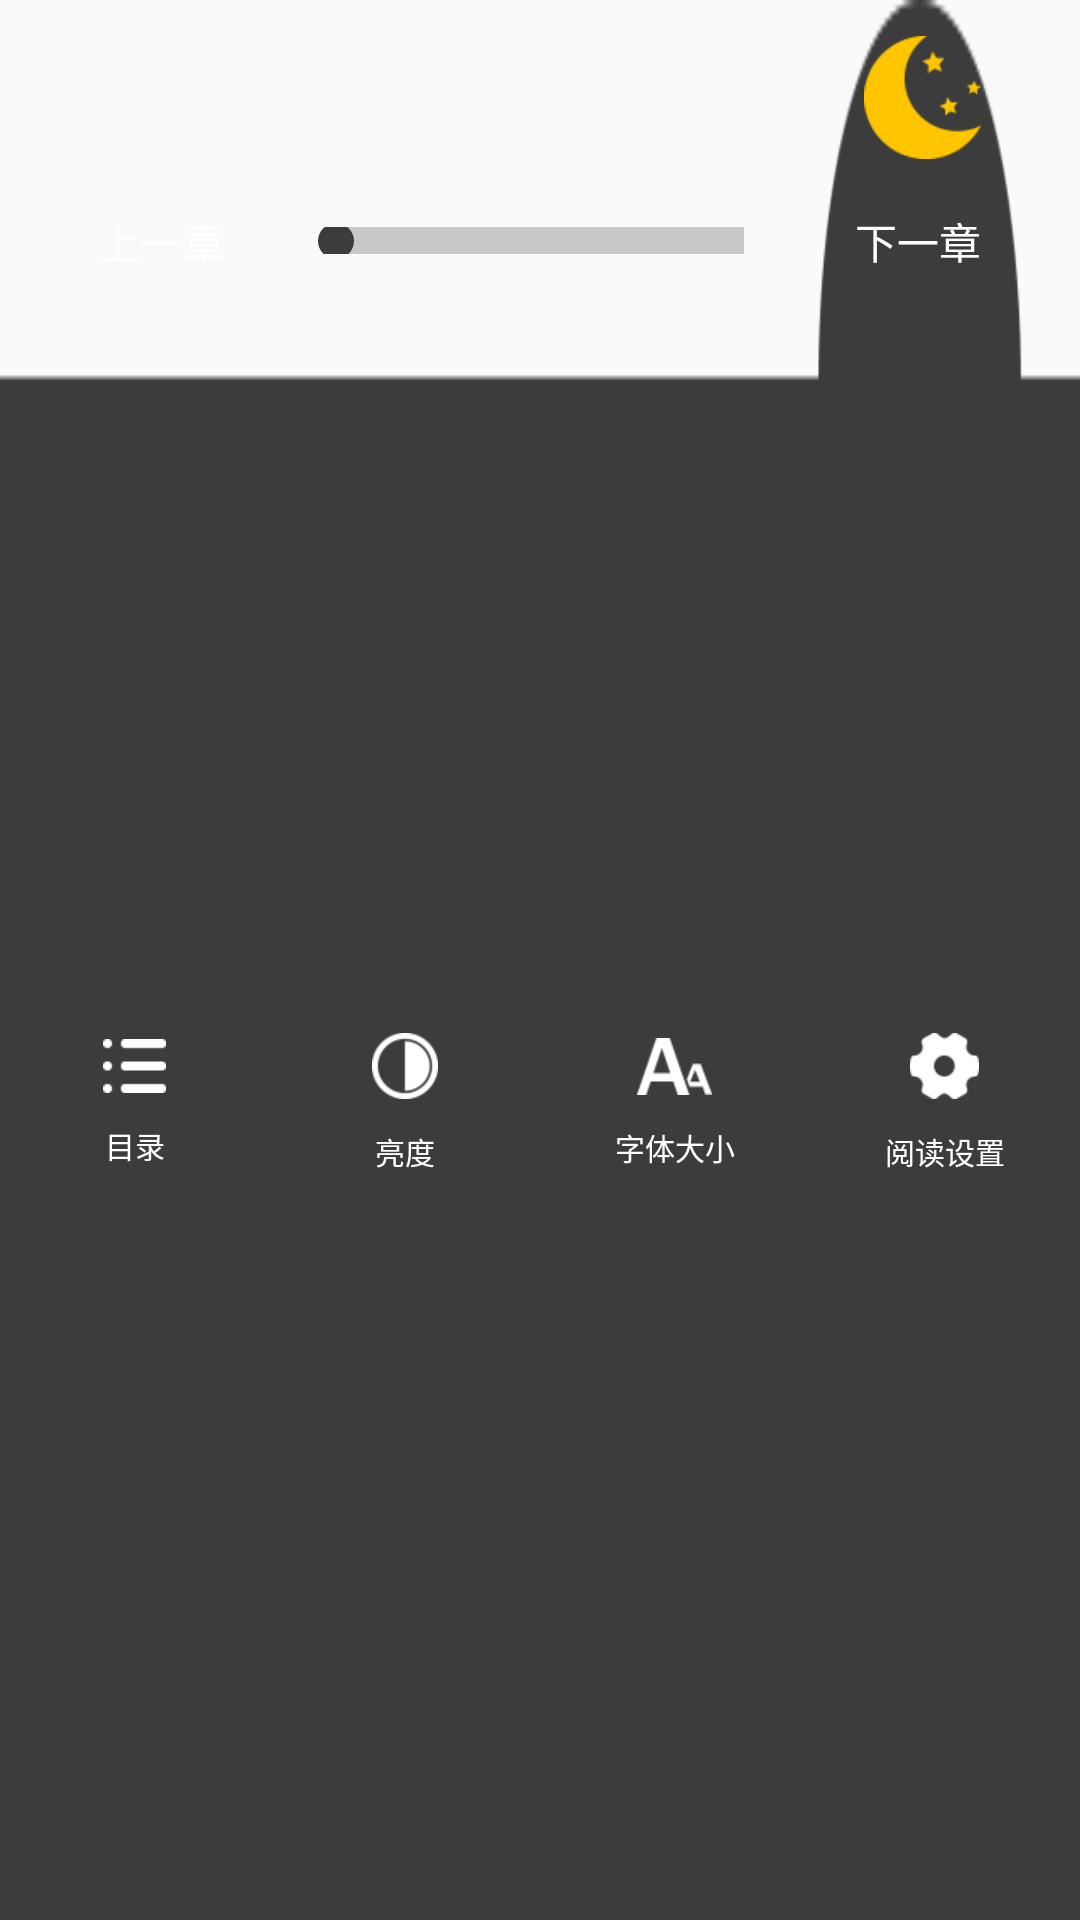

Icon click points for this 1080*1920 phone screenshot, format (x,y):
zjb read night model: (919,97)
